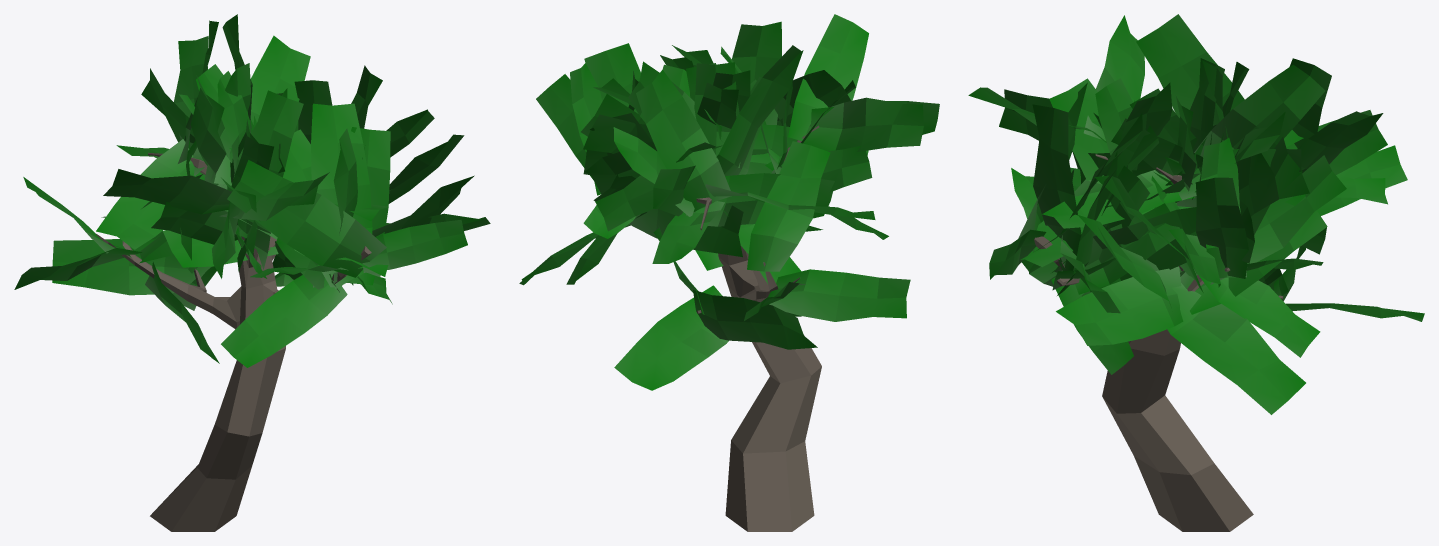
File: ArvoreSemLOD.fbx
3 renders of one model, left to right at view 1: azimuth 30°, elevation 25°; view 2: azimuth 150°, elevation 25°; view 3: azimuth 270°, elevation 25°, orthographic. The views are drawn at different scales.
Parts seen in each view (by area): view 1: Arvore02; view 2: Arvore02; view 3: Arvore02.
Boxes of the visible parts, x1,y1,x2,y2 form: Arvore02: [14, 14, 490, 531]; Arvore02: [519, 14, 939, 531]; Arvore02: [968, 14, 1424, 531].
Bounding box in the file's own units: 677 × 734 × 613.
